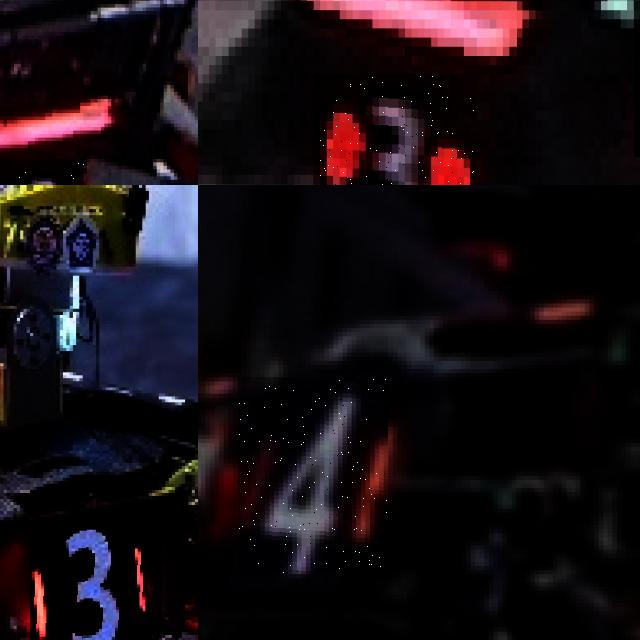R2: (0, 160, 87, 185)
R3: (313, 74, 476, 185), (30, 529, 162, 640)
R4: (238, 377, 388, 574)
